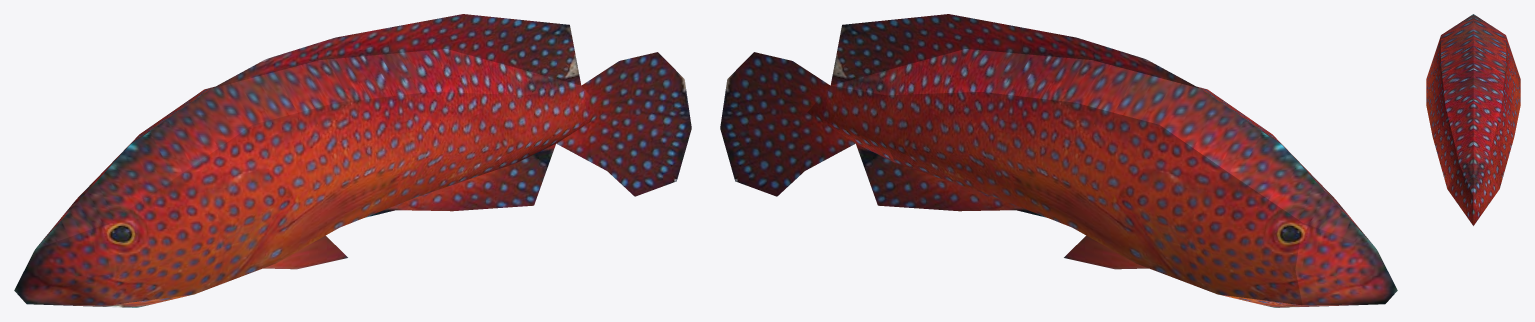
File: grouper_fbx.fbx
3 renders of one model, left to right at view 1: azimuth 30°, elevation 25°; view 2: azimuth 150°, elevation 25°; view 3: azimuth 270°, elevation 25°, orthographic. The views are drawn at different scales.
Visible parts, largest first — view 1: pCube1; view 2: pCube1; view 3: pCube1.
Boxes of the visible parts, x1=… form: pCube1: x1=14, y1=14, x2=691, y2=307; pCube1: x1=720, y1=14, x2=1397, y2=307; pCube1: x1=1426, y1=14, x2=1520, y2=225.
Size of the model in its own units: 26.41 by 8.65 by 4.71.
